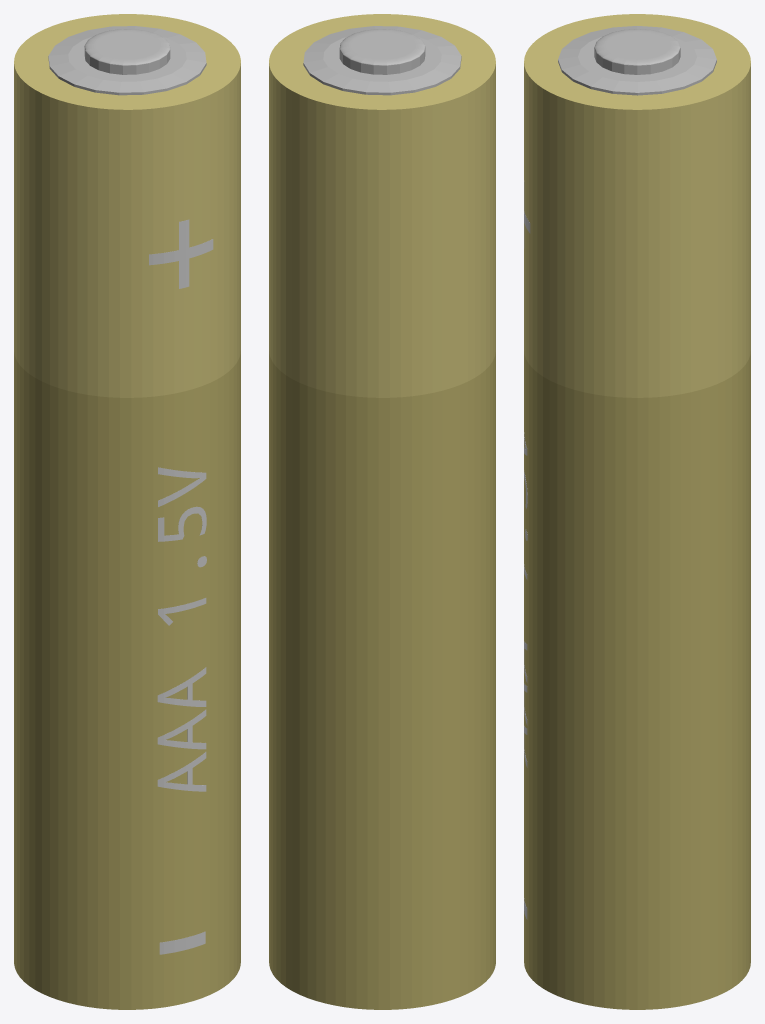
Rendered from Battery.glb.
3 views of the same model, side by side, from view 1: azimuth 30°, elevation 25°; view 2: azimuth 150°, elevation 25°; view 3: azimuth 270°, elevation 25° (orthographic).
Parts seen in each view (by area): view 1: Mesh_Mesh_head_geo.001_lambert2SG.001; view 2: Mesh_Mesh_head_geo.001_lambert2SG.001; view 3: Mesh_Mesh_head_geo.001_lambert2SG.001.
Boxes of the visible parts, box(x1,y1,x2,y2) form: Mesh_Mesh_head_geo.001_lambert2SG.001: box(14, 14, 240, 1009); Mesh_Mesh_head_geo.001_lambert2SG.001: box(269, 14, 495, 1009); Mesh_Mesh_head_geo.001_lambert2SG.001: box(524, 14, 750, 1009).
Bounding box in the file's own units: 10 × 44.8 × 10.
